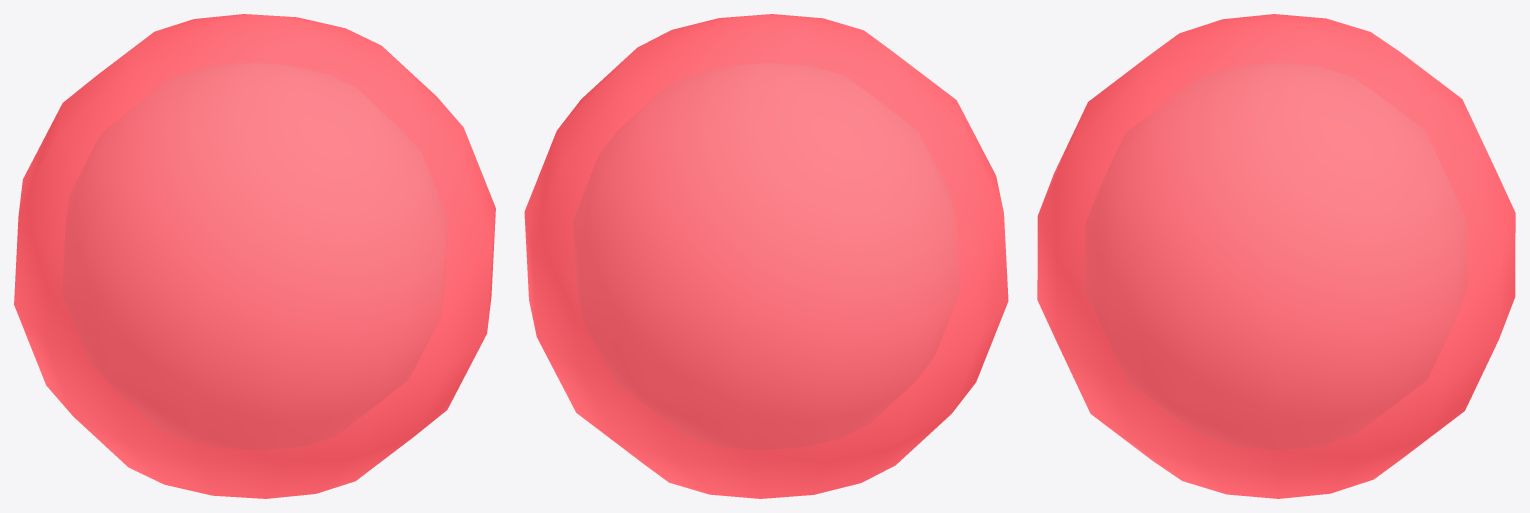
File: golem_weakpoint.fbx
3 renders of one model, left to right at view 1: azimuth 30°, elevation 25°; view 2: azimuth 150°, elevation 25°; view 3: azimuth 270°, elevation 25°, orthographic.
Visible parts, largest first — view 1: L_core.002; view 2: L_core.002; view 3: L_core.002.
Boxes of the visible parts, box(x1,y1,x2,y2) form: L_core.002: box(14, 14, 495, 498); L_core.002: box(524, 14, 1008, 498); L_core.002: box(1037, 14, 1515, 498).
Size of the model in its own units: 363 by 366 by 360.
